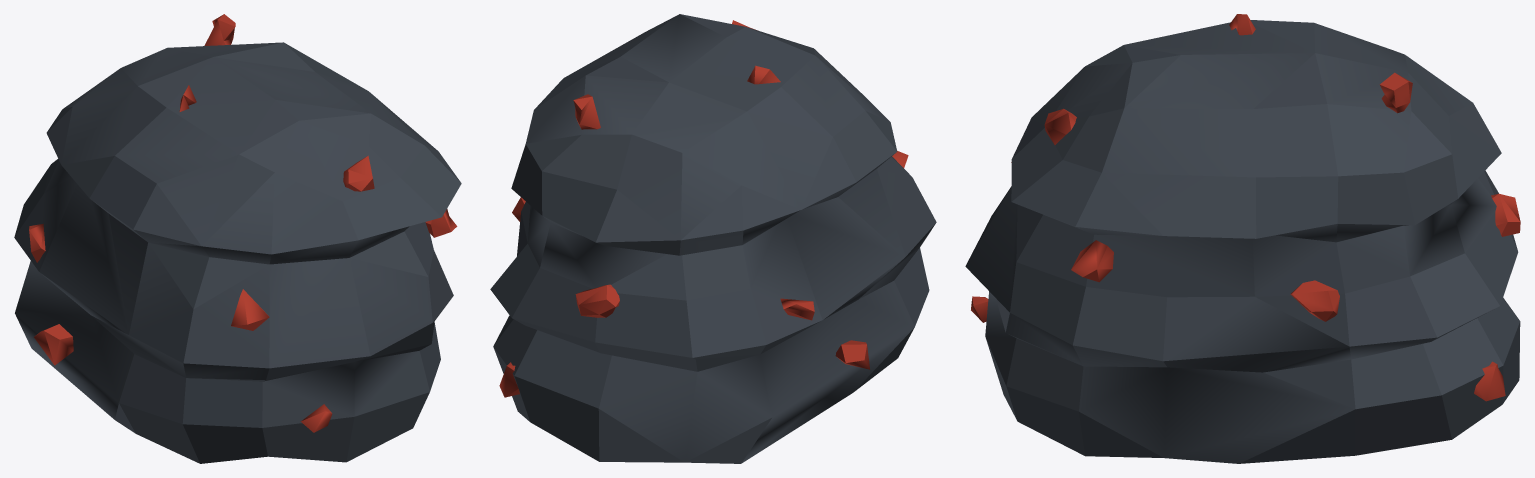
Rendered from cc0-bush-berries-lod1.glb.
The picture shows the model from 3 angles, left to right: view 1: azimuth 30°, elevation 25°; view 2: azimuth 150°, elevation 25°; view 3: azimuth 270°, elevation 25°; orthographic projection. The views are drawn at different scales.
Visible parts, largest first — view 1: part_0; view 2: part_0; view 3: part_0.
Boxes of the visible parts, x1=… form: part_0: x1=14, y1=14, x2=461, y2=463; part_0: x1=490, y1=14, x2=936, y2=463; part_0: x1=965, y1=14, x2=1520, y2=463.
Bounding box in the file's own units: 1.39 × 1.27 × 1.72.
